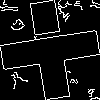I: (25, 25, 72, 46)
